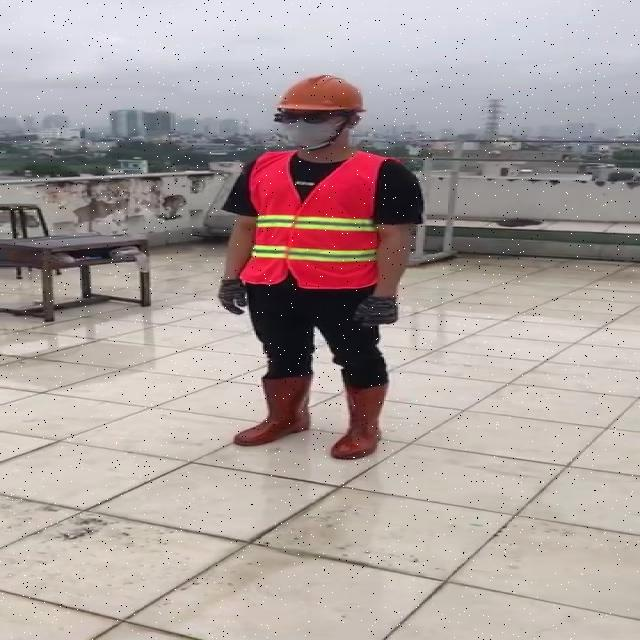Hard_hat: (270, 69, 374, 124)
Person: (205, 74, 433, 587)
Vest: (245, 144, 384, 287)
